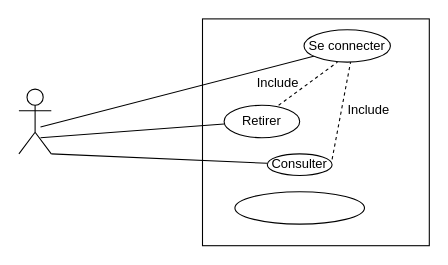
Image size: 448x265. Some labels were removed from this diagram. The centre of each missing label's shape, as x and y in pixels:
"Client" goes at (x=34, y=121).
"test modification" goes at (x=299, y=207).
